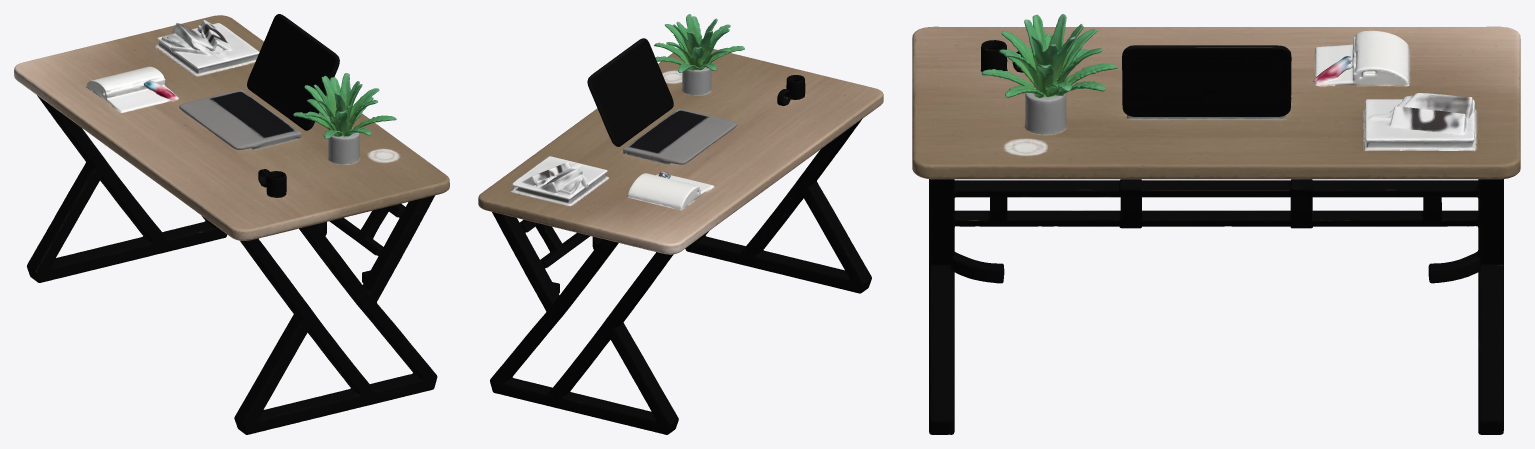
The model's file is Rectangular Computer Desk with Z-Shaped Metal Legs [qwXGdW].glb.
3 renders of one model, left to right at view 1: azimuth 30°, elevation 25°; view 2: azimuth 150°, elevation 25°; view 3: azimuth 270°, elevation 25°, orthographic. The views are drawn at different scales.
Parts seen in each view (by area): view 1: world; view 2: world; view 3: world.
Boxes of the visible parts, <box> form: world: <box>14,14,449,434</box>; world: <box>478,14,883,434</box>; world: <box>912,14,1520,434</box>.
Size of the model in its own units: 0.5471 by 0.6872 by 1.
Materials: 1 (1 with a texture image).
